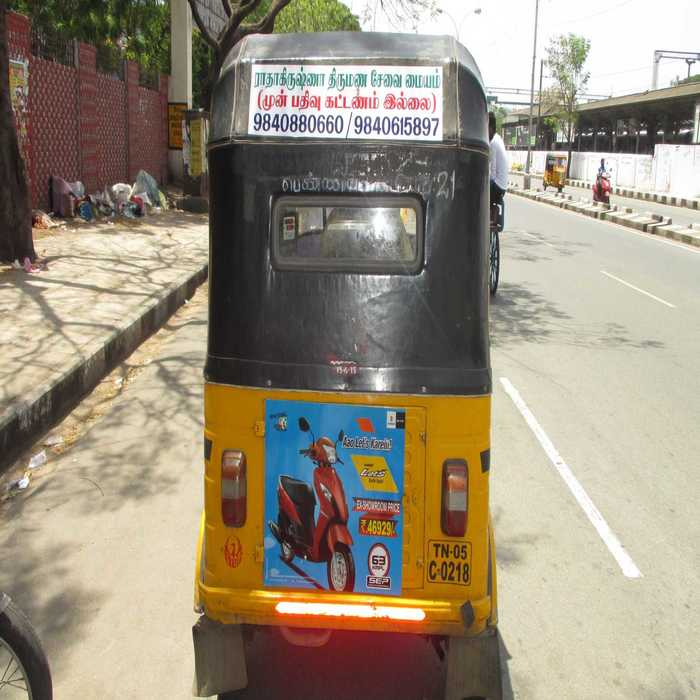n: (425, 539, 474, 587)
